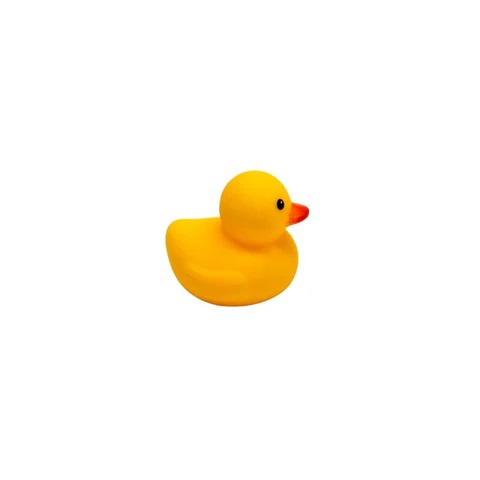duck_regular: (164, 161, 311, 309)
